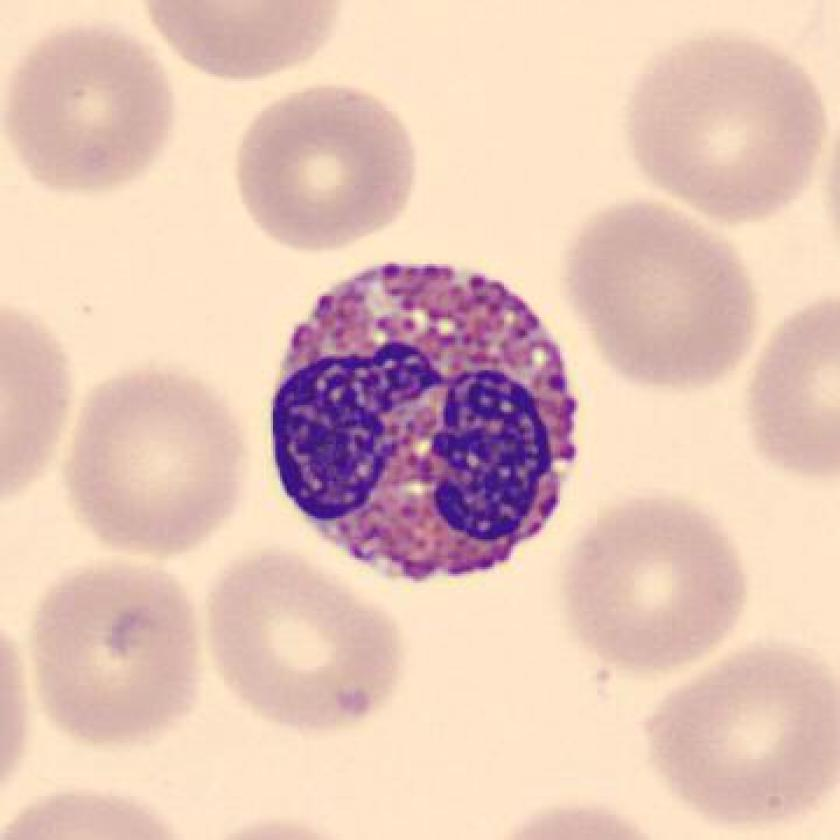eosinophil: (265, 251, 589, 598)
